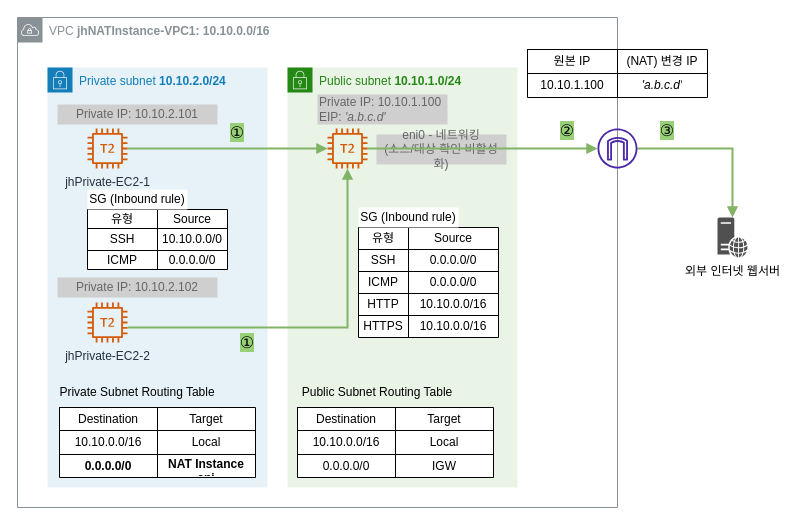
Image size: 797x525. Some labels were removed from this diagram. The centre of each missing label's shape, as x and y in pixels:
"Internet Gateway (IP 변환) NAT" goes at (x=617, y=148).
"jhNAT-Instance (IP-Port 변환)" goes at (x=347, y=148).
